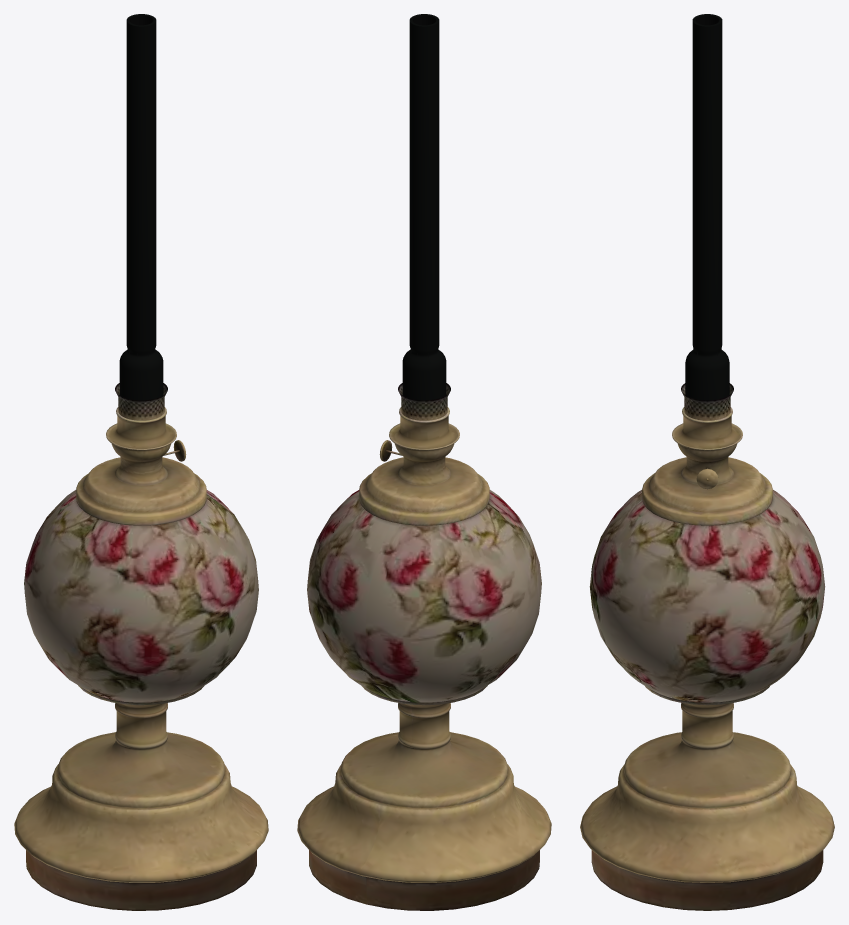
Rendered from vintage_oil_lamp.glb.
3 renders of one model, left to right at view 1: azimuth 30°, elevation 25°; view 2: azimuth 150°, elevation 25°; view 3: azimuth 270°, elevation 25°, orthographic.
Parts seen in each view (by area): view 1: vintage_oil_lamp, vintage_oil_lamp_glass; view 2: vintage_oil_lamp, vintage_oil_lamp_glass; view 3: vintage_oil_lamp, vintage_oil_lamp_glass.
Boxes of the visible parts, x1,y1,x2,y2 form: vintage_oil_lamp: [14, 407, 268, 910]; vintage_oil_lamp_glass: [115, 14, 167, 420]; vintage_oil_lamp: [297, 407, 551, 910]; vintage_oil_lamp_glass: [398, 14, 450, 420]; vintage_oil_lamp: [580, 407, 834, 910]; vintage_oil_lamp_glass: [681, 14, 733, 420].
Bounding box in the file's own units: 0.22 × 0.8016 × 0.22.
3 materials, 3 textured.
